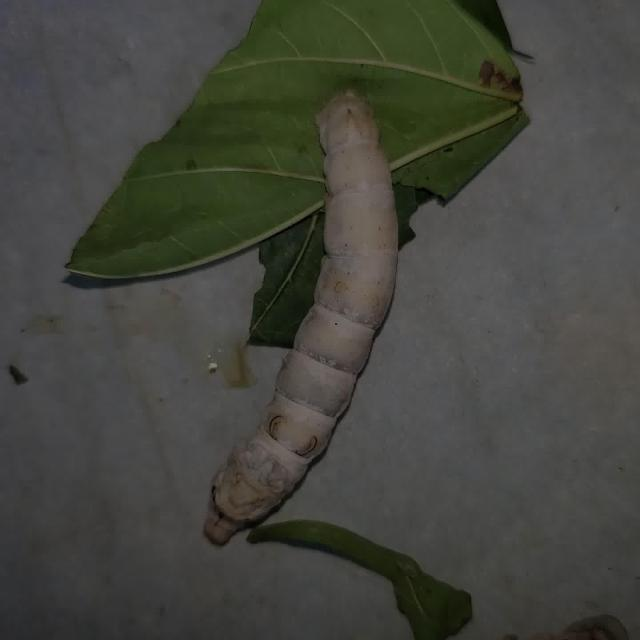Grasserie: (196, 74, 408, 583)
